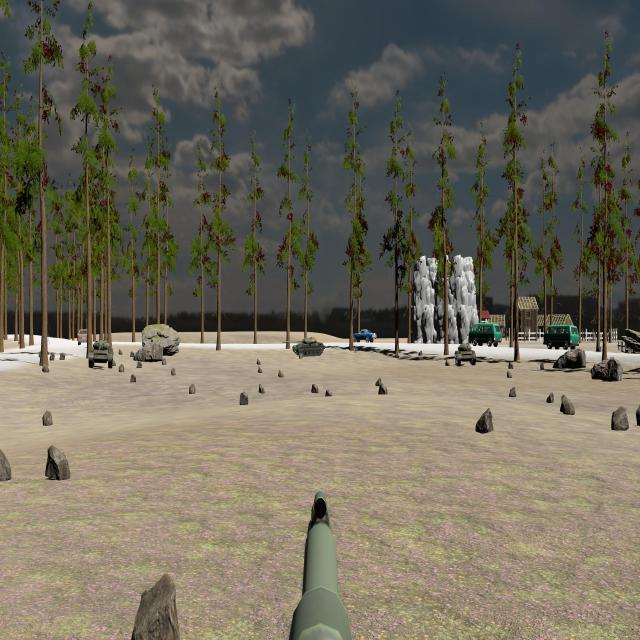Tank: (88, 338, 114, 370), (286, 337, 326, 357), (455, 342, 476, 366)
car: (544, 325, 580, 349), (469, 322, 502, 347), (352, 329, 376, 343)
